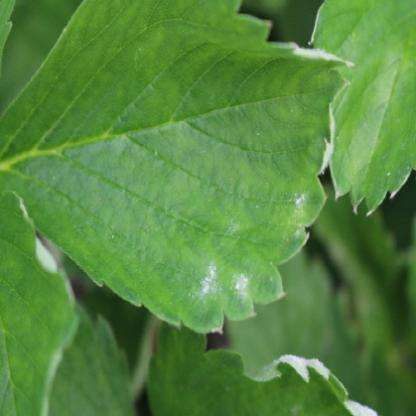Strawberry_Powdery_Mildew_Leaf: (0, 0, 357, 335), (146, 318, 380, 414)
